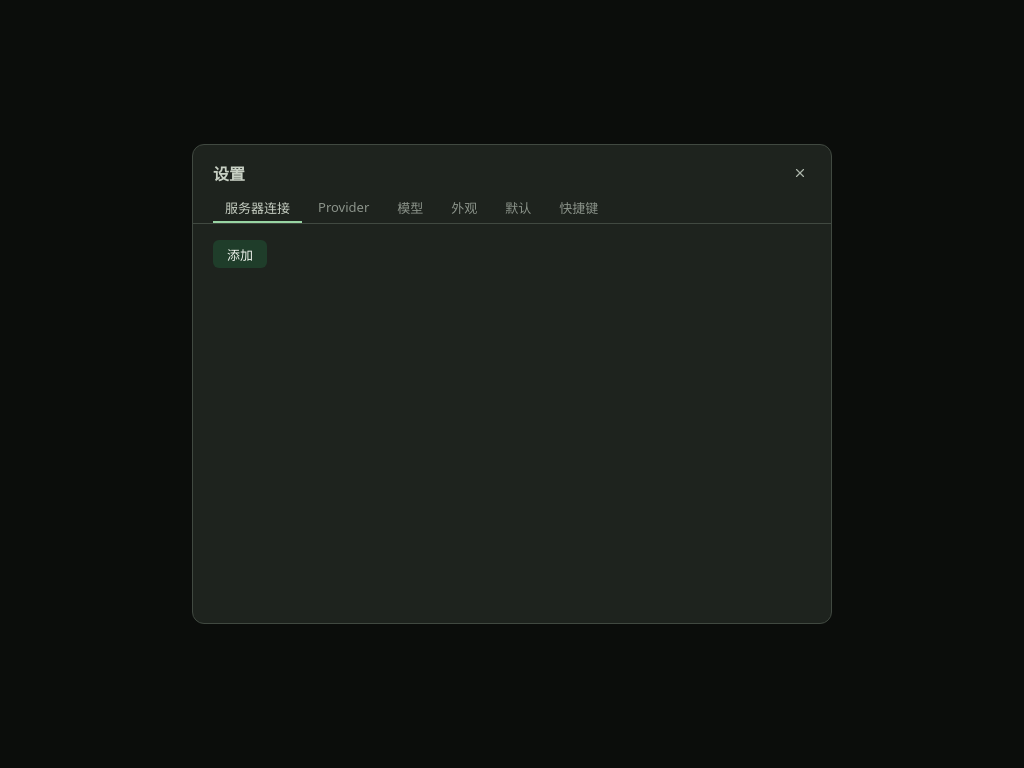
Test: 添加服务器引导式（design-guided-add-server） › 全部完成且无候选：空态文案 + 手动入口
Click the button "添加": x=240, y=254 x1=213 y1=240 x2=267 y2=268
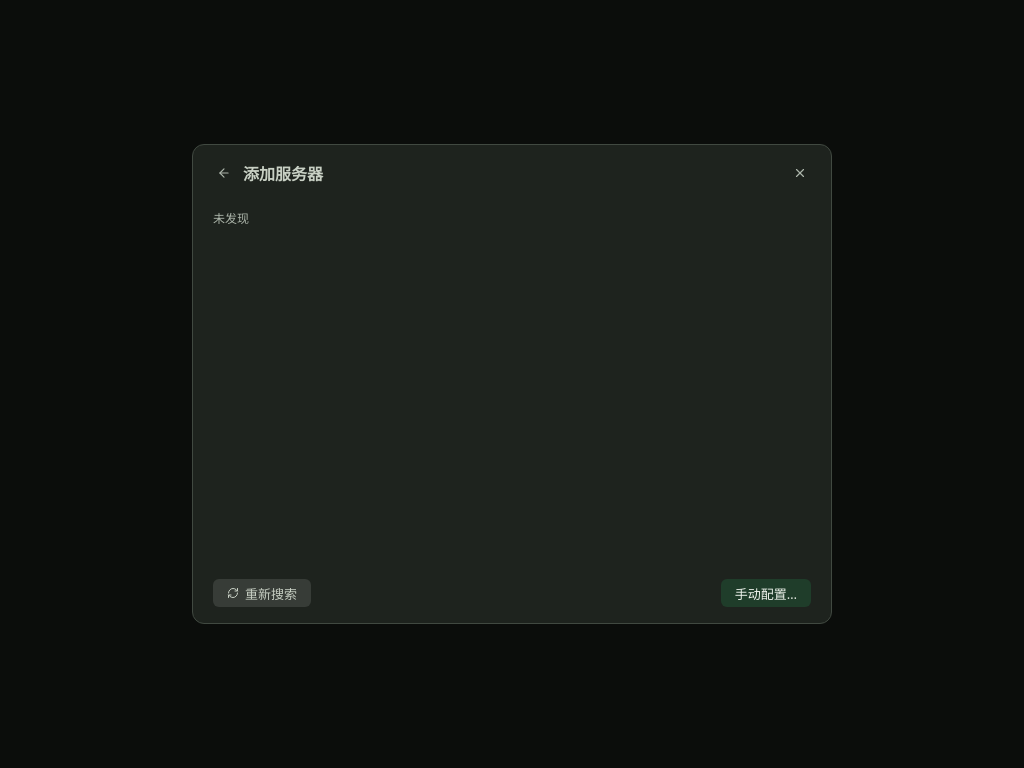
Check: the text "未发现" is shown, box x1=213 y1=210 x2=249 y2=227
Check: the button "手动配置…" is shown, box x1=721 y1=579 x2=811 y2=607
